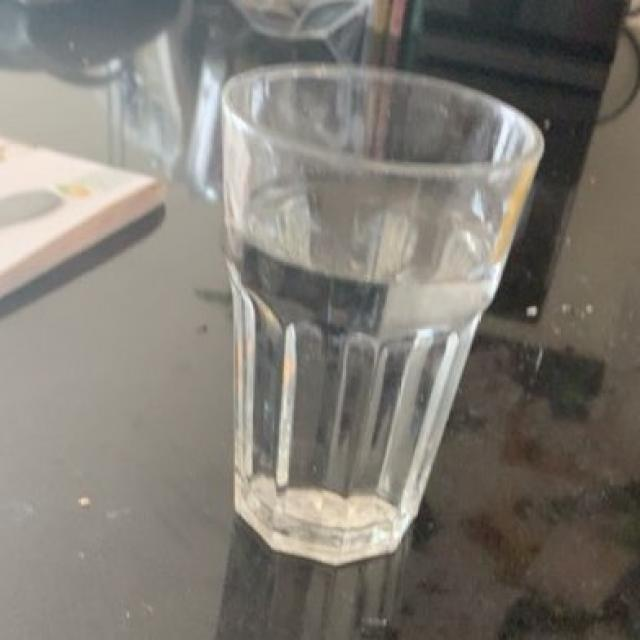water: (225, 177, 506, 546)
